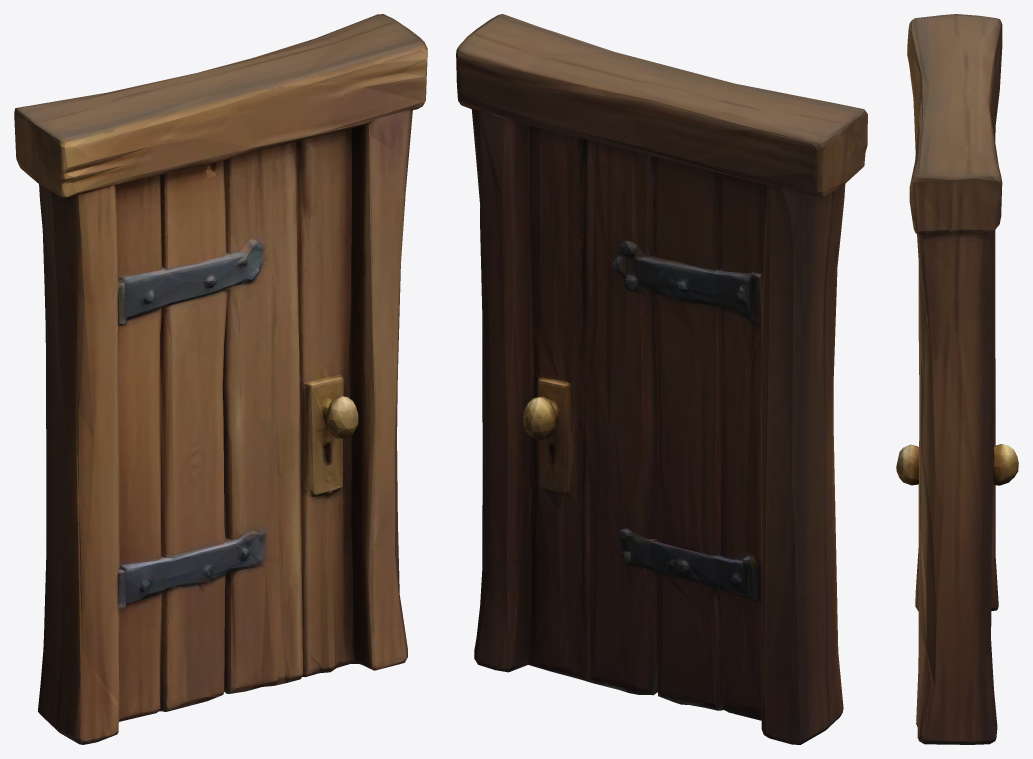
Rendered from door.glb.
3 views of the same model, side by side, from view 1: azimuth 30°, elevation 25°; view 2: azimuth 150°, elevation 25°; view 3: azimuth 270°, elevation 25° (orthographic). The views are drawn at different scales.
Visible parts, largest first — view 1: geometry_0; view 2: geometry_0; view 3: geometry_0.
Boxes of the visible parts, x1,y1,x2,y2 form: geometry_0: (14,14,427,744); geometry_0: (456,14,867,744); geometry_0: (896,14,1018,744).
Bounding box in the file's own units: 0.627 × 0.9978 × 0.1912.
1 material, 1 textured.
